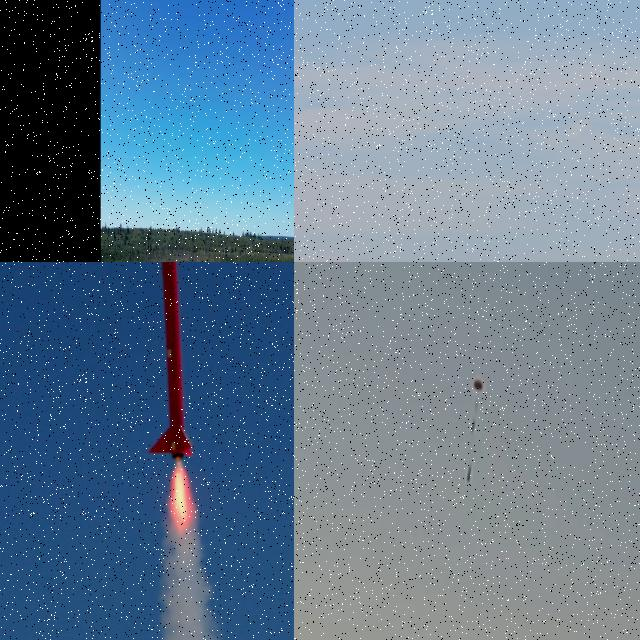Rocket: (148, 262, 195, 460), (467, 464, 472, 483)
